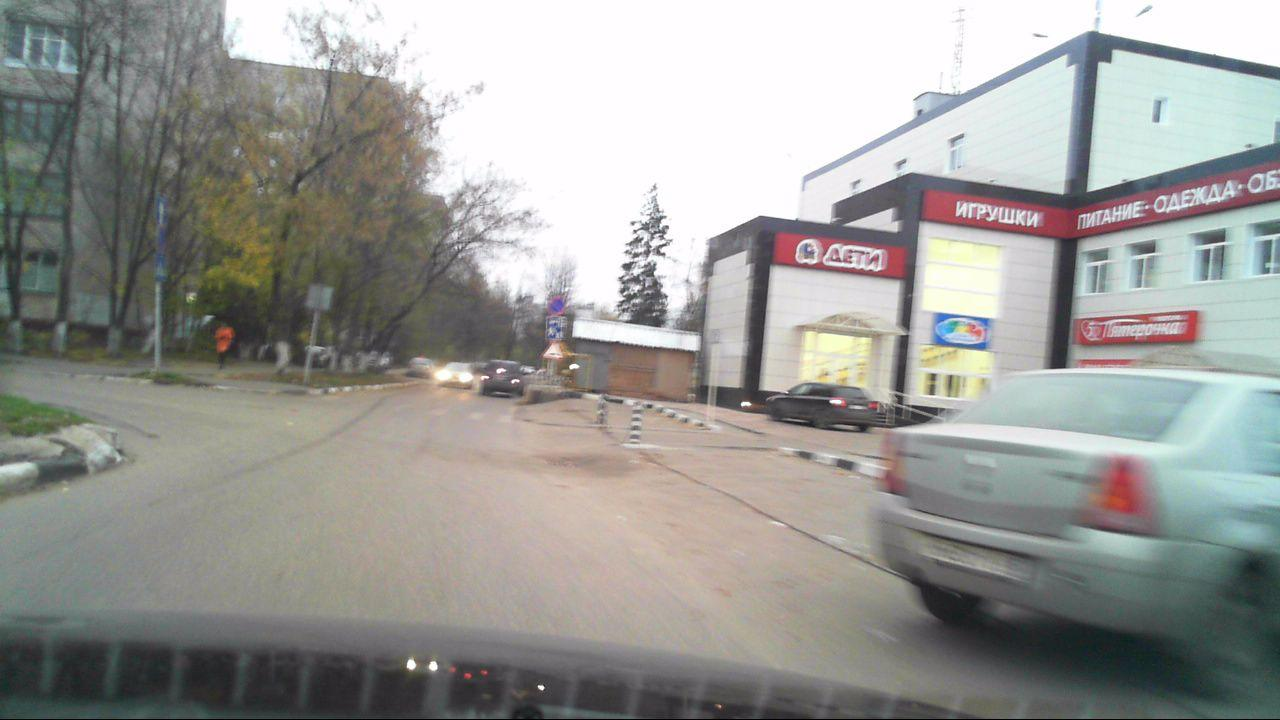1_17: (542, 340, 563, 360)
3_28: (155, 227, 168, 252), (548, 296, 566, 314)
5_19_1: (155, 257, 166, 281)
5_21: (547, 316, 564, 340)
5_5: (156, 197, 169, 224)
